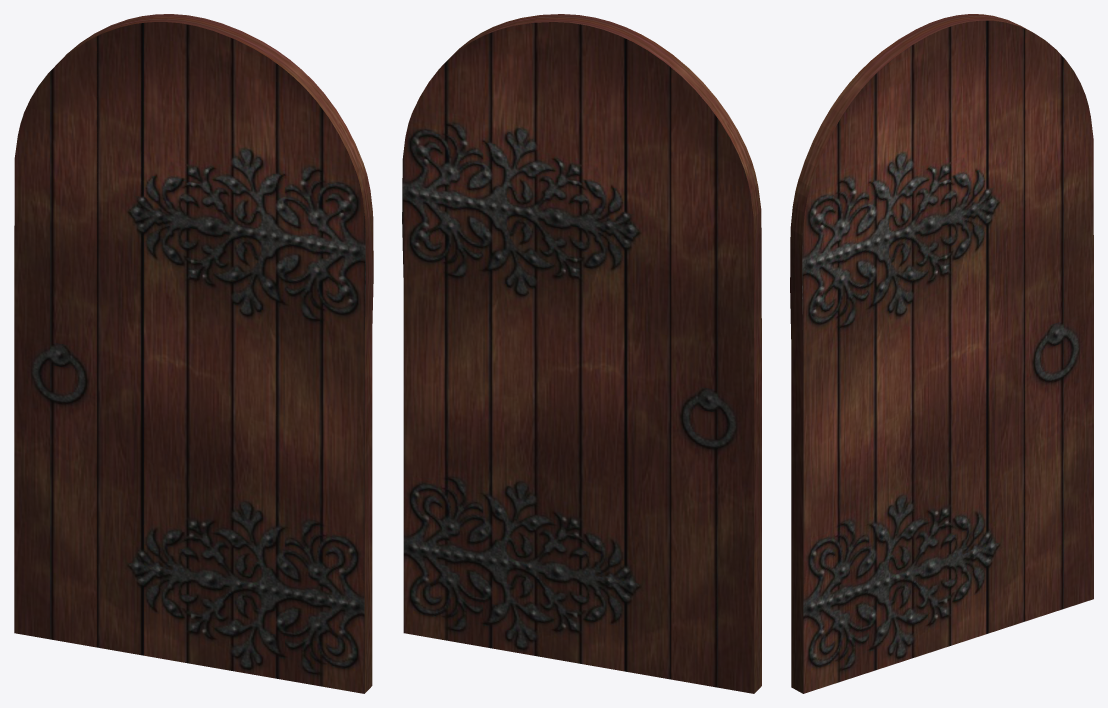
Rendered from door 16.obj.
3 renders of one model, left to right at view 1: azimuth 30°, elevation 25°; view 2: azimuth 210°, elevation 25°; view 3: azimuth 270°, elevation 25°, orthographic. The views are drawn at different scales.
Visible parts, largest first — view 1: door_10:Mesh; view 2: door_10:Mesh; view 3: door_10:Mesh.
Part boxes in pixels (<box>): door_10:Mesh: <box>14,14,373,693</box>; door_10:Mesh: <box>402,14,761,693</box>; door_10:Mesh: <box>790,14,1093,693</box>.
Size of the model in its own units: 42.24 by 120 by 53.28.
Materials: 1 (1 with a texture image).
